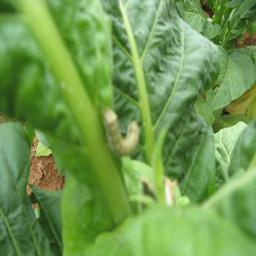Tobacco_budworm: (101, 107, 141, 157)
